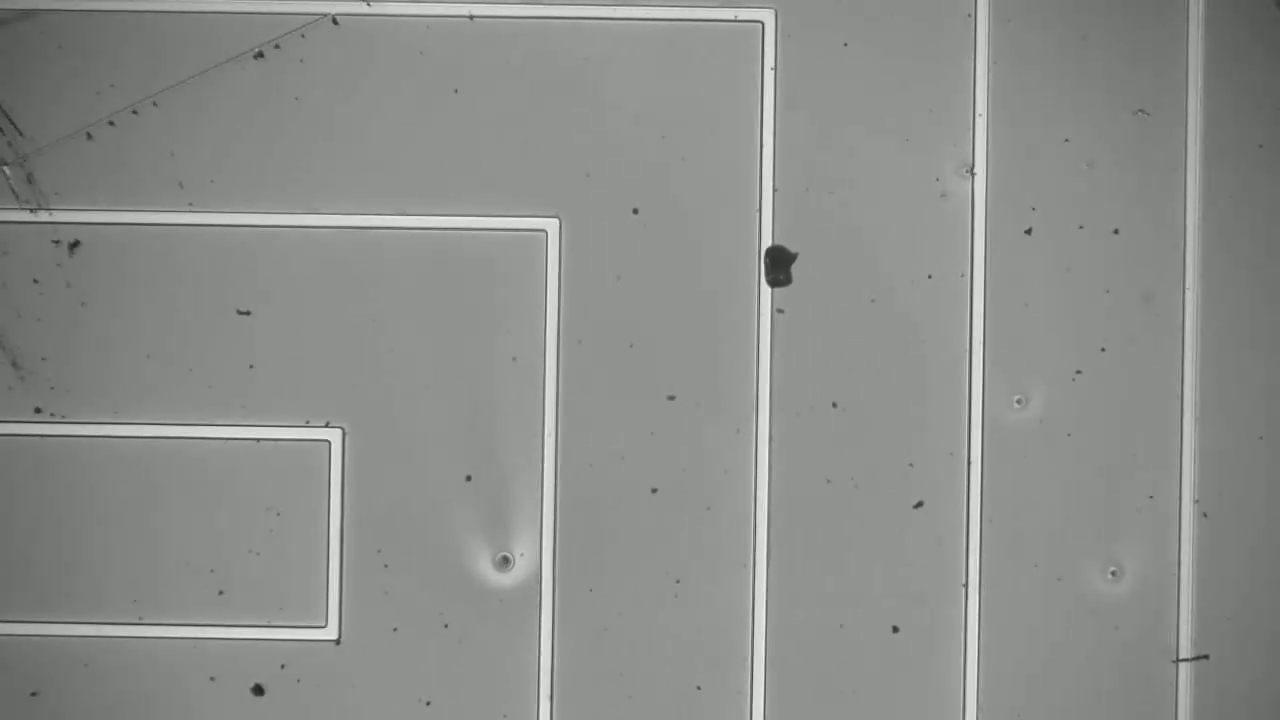scratch: (14, 1, 357, 160)
stains_enbedded: (740, 228, 805, 301)
